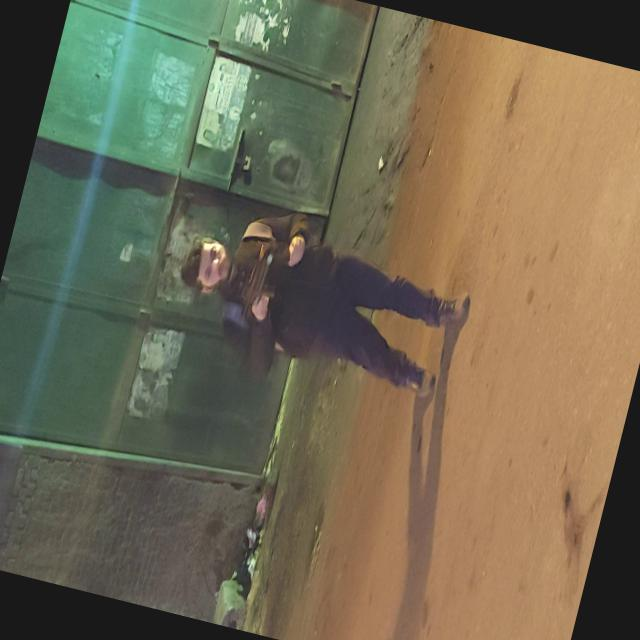long weapon: (228, 235, 292, 336)
